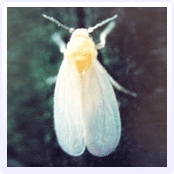whitefly: (42, 14, 138, 157)
